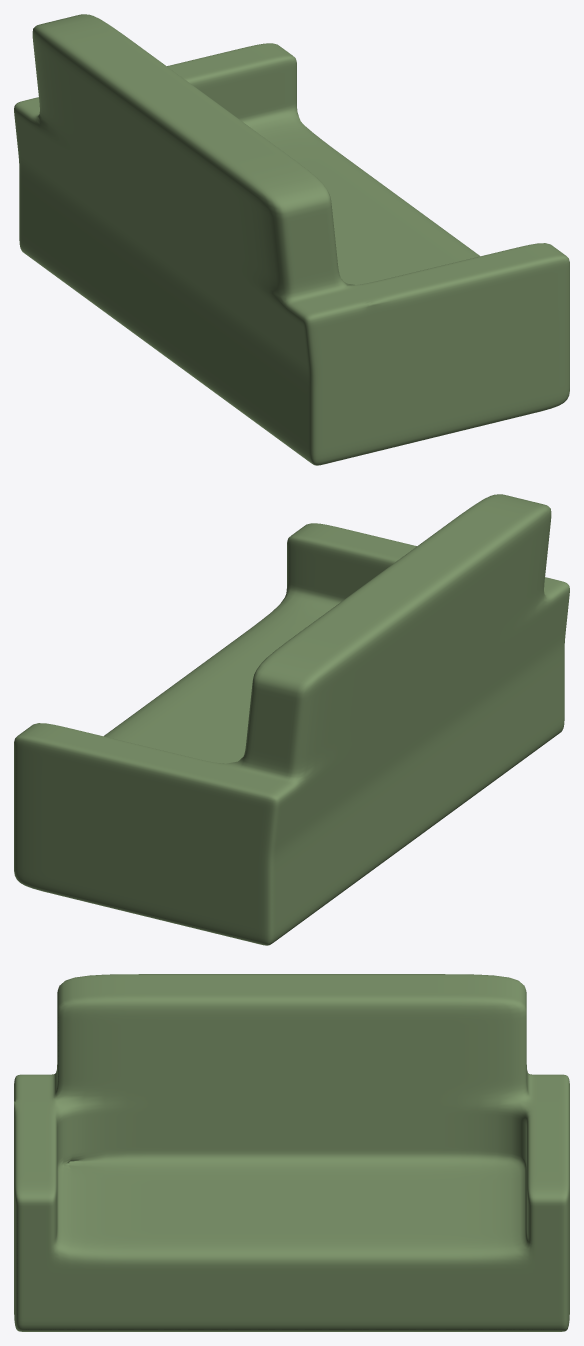
Rendered from Sofa Color.fbx.
The picture shows the model from 3 angles, top to bottom: view 1: azimuth 30°, elevation 25°; view 2: azimuth 150°, elevation 25°; view 3: azimuth 270°, elevation 25°; orthographic projection. The views are drawn at different scales.
Parts seen in each view (by area): view 1: Cube; view 2: Cube; view 3: Cube.
Boxes of the visible parts, bbox=[...] form: Cube: bbox=[14, 14, 569, 465]; Cube: bbox=[14, 494, 569, 945]; Cube: bbox=[14, 974, 569, 1331].
Size of the model in its own units: 635 by 563 by 1182.
